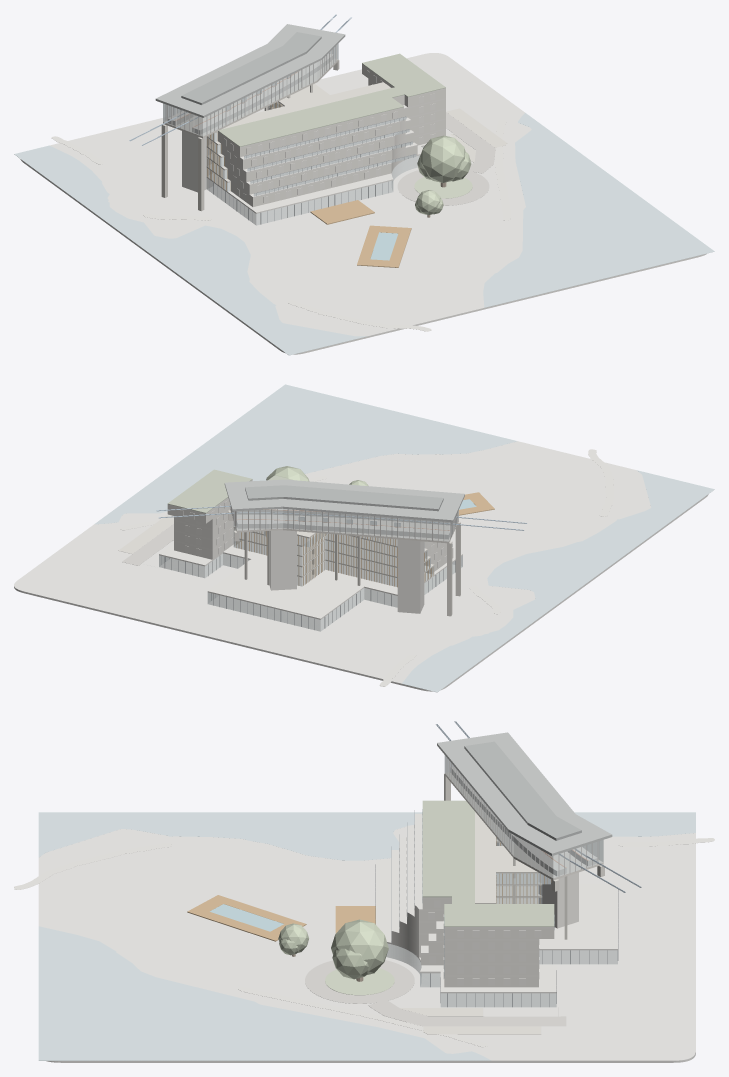
3 renders of one model, top to bottom at view 1: azimuth 30°, elevation 25°; view 2: azimuth 150°, elevation 25°; view 3: azimuth 270°, elevation 25°, orthographic. The views are drawn at different scales.
Visible parts, largest first — view 1: SITE|基地底板|9, SITE|水面|0, RF-H|綠屋頂|22, RF-S|金屬屋面|18, R5|玻璃|15, 1F|米白塗裝|6, RF-S|屋脊金屬|17, 1F|玻璃|15, SITE|樹冠|8, SITE|道路鋪面|5, SITE|木構|1, SITE|米白塗裝|6 (+22 smaller); view 2: SITE|基地底板|9, SITE|水面|0, 1F|米白塗裝|6, RF-S|金屬屋面|18, R5|玻璃|15, 1F|玻璃|15, RF-S|屋脊金屬|17, R5|米白塗裝|6, R5|清水混凝土|11, RF-H|綠屋頂|22, 1F|清水混凝土|11, SITE|米白塗裝|6 (+21 smaller); view 3: SITE|基地底板|9, SITE|水面|0, RF-H|綠屋頂|22, 1F|米白塗裝|6, RF-S|金屬屋面|18, SITE|道路鋪面|5, 1F|玻璃|15, RF-S|屋脊金屬|17, SITE|樹冠|8, R5|玻璃|15, SITE|米白塗裝|6, SITE|木構|1 (+20 smaller).
Boxes of the visible parts, bbox=[...] form: SITE|基地底板|9: bbox=[20, 53, 706, 354]; SITE|水面|0: bbox=[14, 113, 714, 355]; RF-H|綠屋頂|22: bbox=[218, 53, 445, 146]; RF-S|金屬屋面|18: bbox=[155, 24, 345, 117]; R5|玻璃|15: bbox=[163, 43, 338, 136]; 1F|米白塗裝|6: bbox=[182, 106, 454, 213]; RF-S|屋脊金屬|17: bbox=[181, 32, 321, 104]; 1F|玻璃|15: bbox=[206, 146, 423, 225]; SITE|樹冠|8: bbox=[415, 135, 471, 215]; SITE|道路鋪面|5: bbox=[397, 112, 495, 205]; SITE|木構|1: bbox=[310, 200, 411, 267]; SITE|米白塗裝|6: bbox=[51, 119, 511, 331]; SITE|基地底板|9: bbox=[14, 441, 708, 691]; SITE|水面|0: bbox=[94, 384, 714, 692]; 1F|米白塗裝|6: bbox=[159, 518, 462, 619]; RF-S|金屬屋面|18: bbox=[224, 479, 464, 522]; R5|玻璃|15: bbox=[230, 505, 458, 541]; 1F|玻璃|15: bbox=[159, 553, 462, 631]; RF-S|屋脊金屬|17: bbox=[245, 485, 443, 511]; R5|米白塗裝|6: bbox=[236, 509, 456, 539]; R5|清水混凝土|11: bbox=[230, 509, 458, 543]; RF-H|綠屋頂|22: bbox=[167, 469, 293, 513]; 1F|清水混凝土|11: bbox=[228, 510, 460, 616]; SITE|米白塗裝|6: bbox=[120, 449, 614, 686]; SITE|基地底板|9: bbox=[38, 825, 695, 1062]; SITE|水面|0: bbox=[38, 812, 695, 1060]; RF-H|綠屋頂|22: bbox=[422, 800, 554, 926]; 1F|米白塗裝|6: bbox=[376, 838, 617, 993]; RF-S|金屬屋面|18: bbox=[437, 732, 612, 855]; SITE|道路鋪面|5: bbox=[305, 960, 566, 1026]; 1F|玻璃|15: bbox=[386, 943, 617, 1007]; RF-S|屋脊金屬|17: bbox=[464, 741, 581, 840]; SITE|樹冠|8: bbox=[278, 919, 388, 979]; R5|玻璃|15: bbox=[444, 755, 603, 878]; SITE|米白塗裝|6: bbox=[14, 838, 714, 1047]; SITE|木構|1: bbox=[187, 895, 375, 941].
Size of the model in its own units: 152 by 38.4 by 181.
